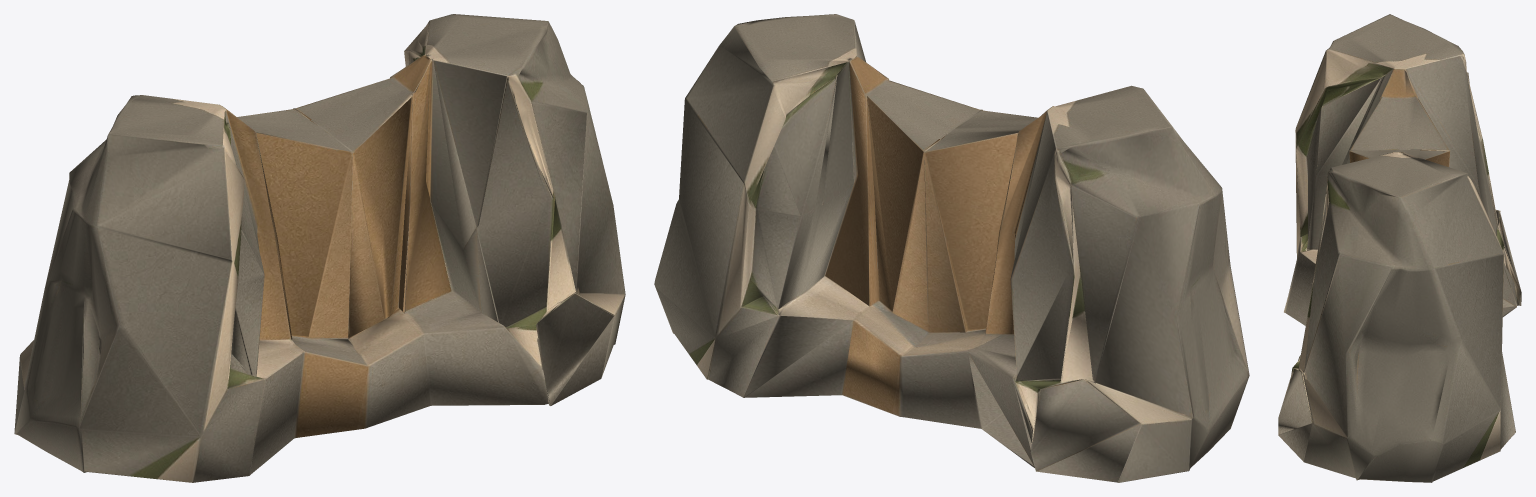
The model's file is AW-CLIFF-002-v0.2.glb.
3 views of the same model, side by side, from view 1: azimuth 30°, elevation 25°; view 2: azimuth 150°, elevation 25°; view 3: azimuth 270°, elevation 25° (orthographic). The views are drawn at different scales.
Parts seen in each view (by area): view 1: AW-CLIFF-002_meter_ground_pivot; view 2: AW-CLIFF-002_meter_ground_pivot; view 3: AW-CLIFF-002_meter_ground_pivot.
Boxes of the visible parts, x1,y1,x2,y2 form: AW-CLIFF-002_meter_ground_pivot: (14, 14, 625, 482); AW-CLIFF-002_meter_ground_pivot: (654, 14, 1249, 482); AW-CLIFF-002_meter_ground_pivot: (1278, 14, 1521, 482).
Size of the model in its own units: 6.29 by 3.4 by 2.8.
Materials: 1 (1 with a texture image).
